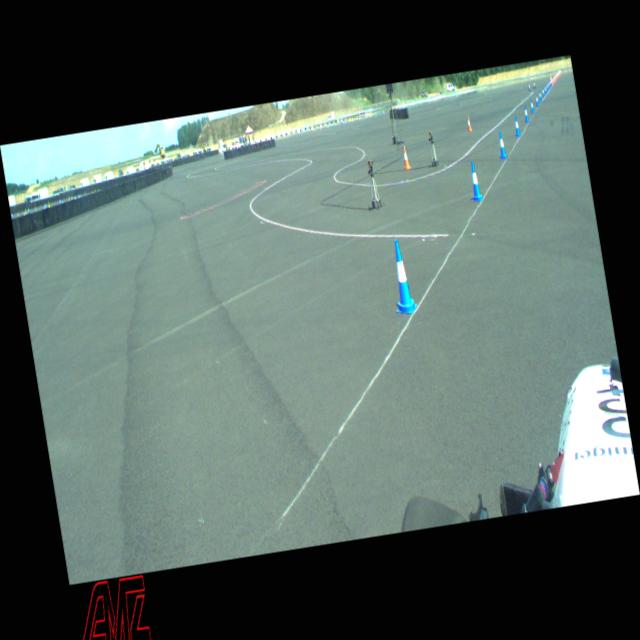blue_cone: (386, 240, 418, 316), (467, 162, 483, 202), (497, 131, 507, 159), (513, 116, 521, 137), (523, 106, 530, 122), (529, 98, 535, 113), (536, 95, 540, 107), (538, 90, 542, 101), (544, 86, 548, 94), (542, 87, 545, 97), (546, 83, 549, 91), (549, 80, 552, 87), (548, 82, 550, 89)
large_orange_cone: (550, 75, 554, 86)
orange_cone: (402, 146, 412, 170), (466, 115, 472, 132)
